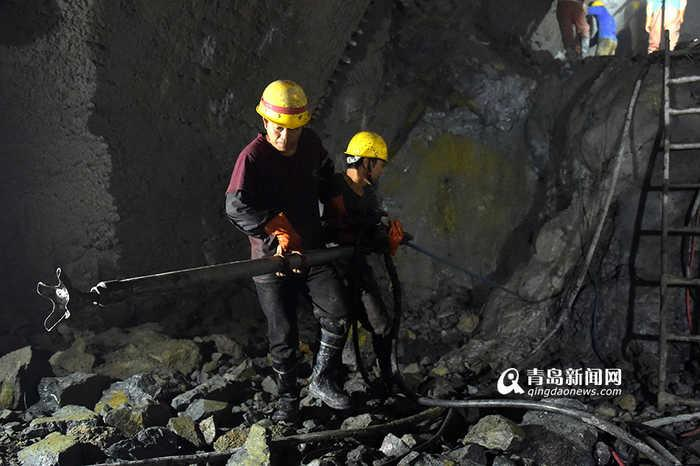helmet: (258, 82, 315, 130), (348, 133, 392, 163)
